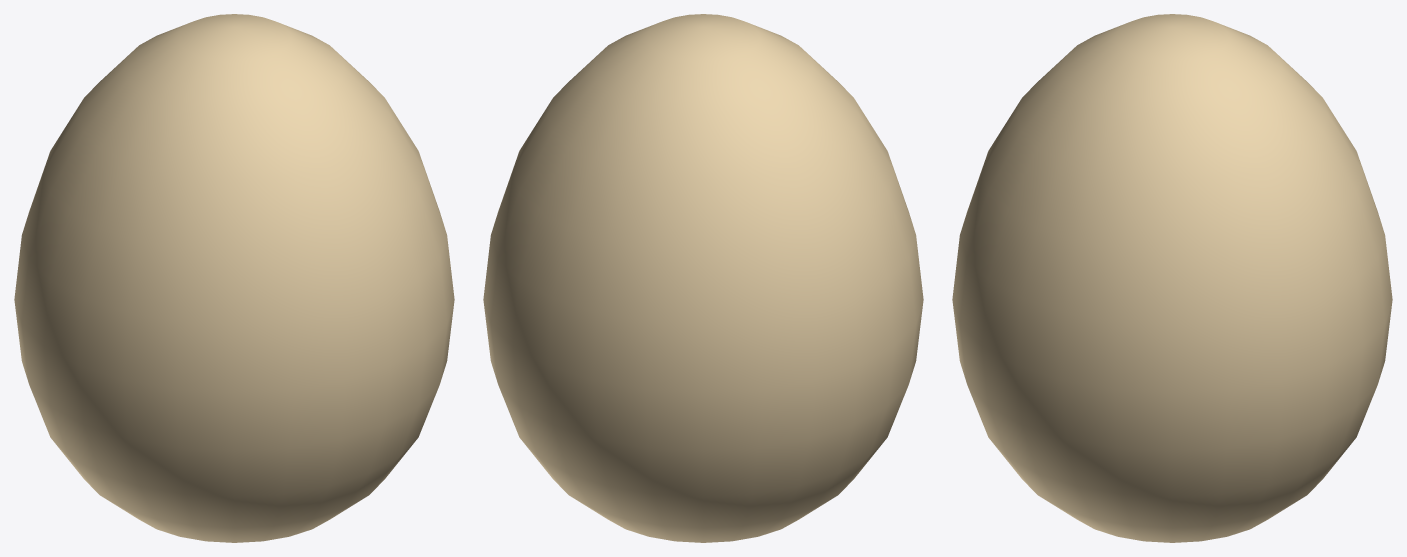
The model's file is egg.glb.
3 renders of one model, left to right at view 1: azimuth 30°, elevation 25°; view 2: azimuth 150°, elevation 25°; view 3: azimuth 270°, elevation 25°, orthographic.
Parts seen in each view (by area): view 1: Sphere; view 2: Sphere; view 3: Sphere.
Boxes of the visible parts, x1,y1,x2,y2 form: Sphere: (14, 14, 454, 542); Sphere: (483, 14, 923, 542); Sphere: (952, 14, 1392, 542).
Bounding box in the file's own units: 2 × 2.49 × 2.
